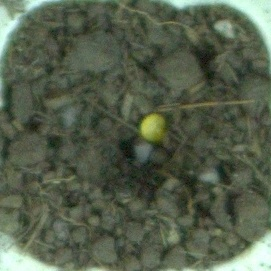pepper seed: (55, 41, 225, 184)
